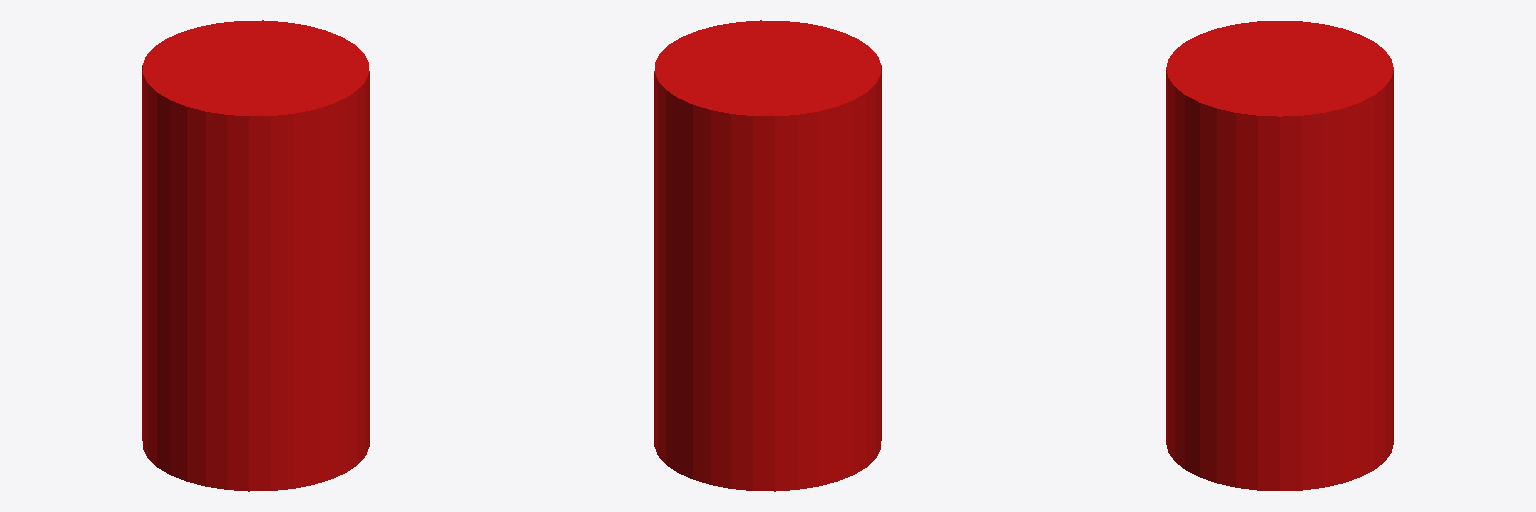
URDF robot description (can_soda):
<?xml version="1.0"?>
<robot name="can_soda">
  <link name="base_link">
    <inertial>
      <origin xyz="0 0 0.060000" rpy="0 0 0"/>
      <mass value="0.35"/>
      <inertia ixx="0.00051529" ixy="0" ixz="0" iyy="0.00051529" iyz="0" izz="0.00019058"/>
    </inertial>
    <visual>
      <origin xyz="0 0 0.060000" rpy="0 0 0"/>
      <geometry><cylinder radius="0.033" length="0.12"/></geometry>
      <material name="can_soda_mat">
        <color rgba="0.85 0.1 0.1 1.0"/>
      </material>
    </visual>
    <collision>
      <origin xyz="0 0 0.060000" rpy="0 0 0"/>
      <geometry><cylinder radius="0.033" length="0.12"/></geometry>
    </collision>
  </link>
</robot>

--- Render facts (derived) ---
Views: 3 orthographic renders of the robot side by side, from view 1: azimuth 30°, elevation 25°; view 2: azimuth 150°, elevation 25°; view 3: azimuth 270°, elevation 25°.
Model can_soda with 1 links and 0 joints (none), rooted at base_link, posed every joint at zero.
Visible links, largest first — view 1: base_link; view 2: base_link; view 3: base_link.
Link boxes in pixels (box(x1,y1,x2,y2)): base_link: box(142, 20, 369, 491); base_link: box(654, 20, 881, 491); base_link: box(1166, 21, 1393, 490).
Size in the robot's own frame: 0.066 by 0.066 by 0.12 metres.
Geometry: primitives only (box / cylinder / sphere), no mesh files.
